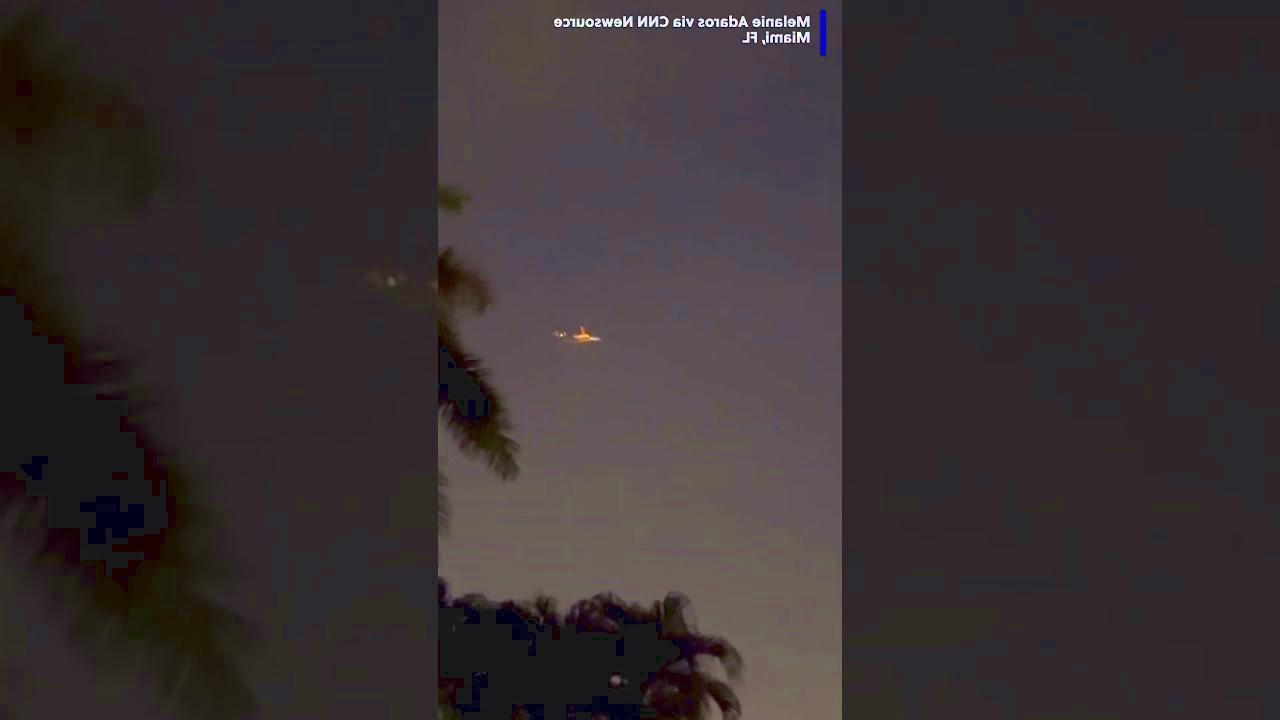Plane: (526, 315, 628, 354)
